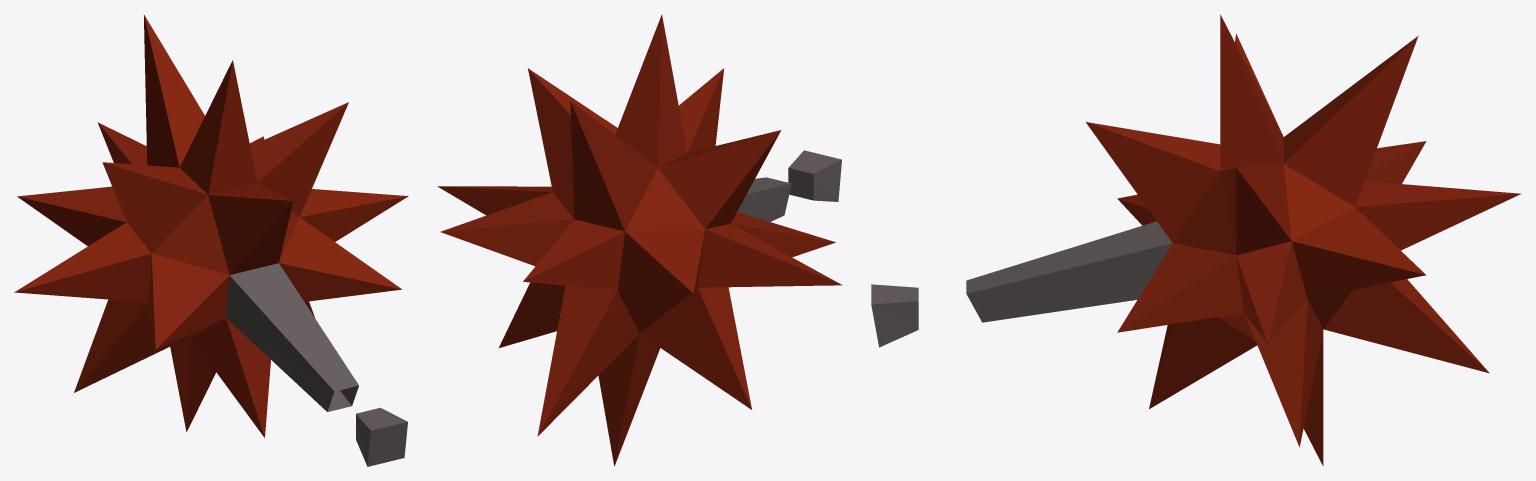
File: itm_model0_dragon_mace.obj
The picture shows the model from 3 angles, left to right: view 1: azimuth 30°, elevation 25°; view 2: azimuth 150°, elevation 25°; view 3: azimuth 270°, elevation 25°; orthographic projection. The views are drawn at different scales.
Bounding box in the file's own units: 0.5 × 0.4922 × 0.6406.
